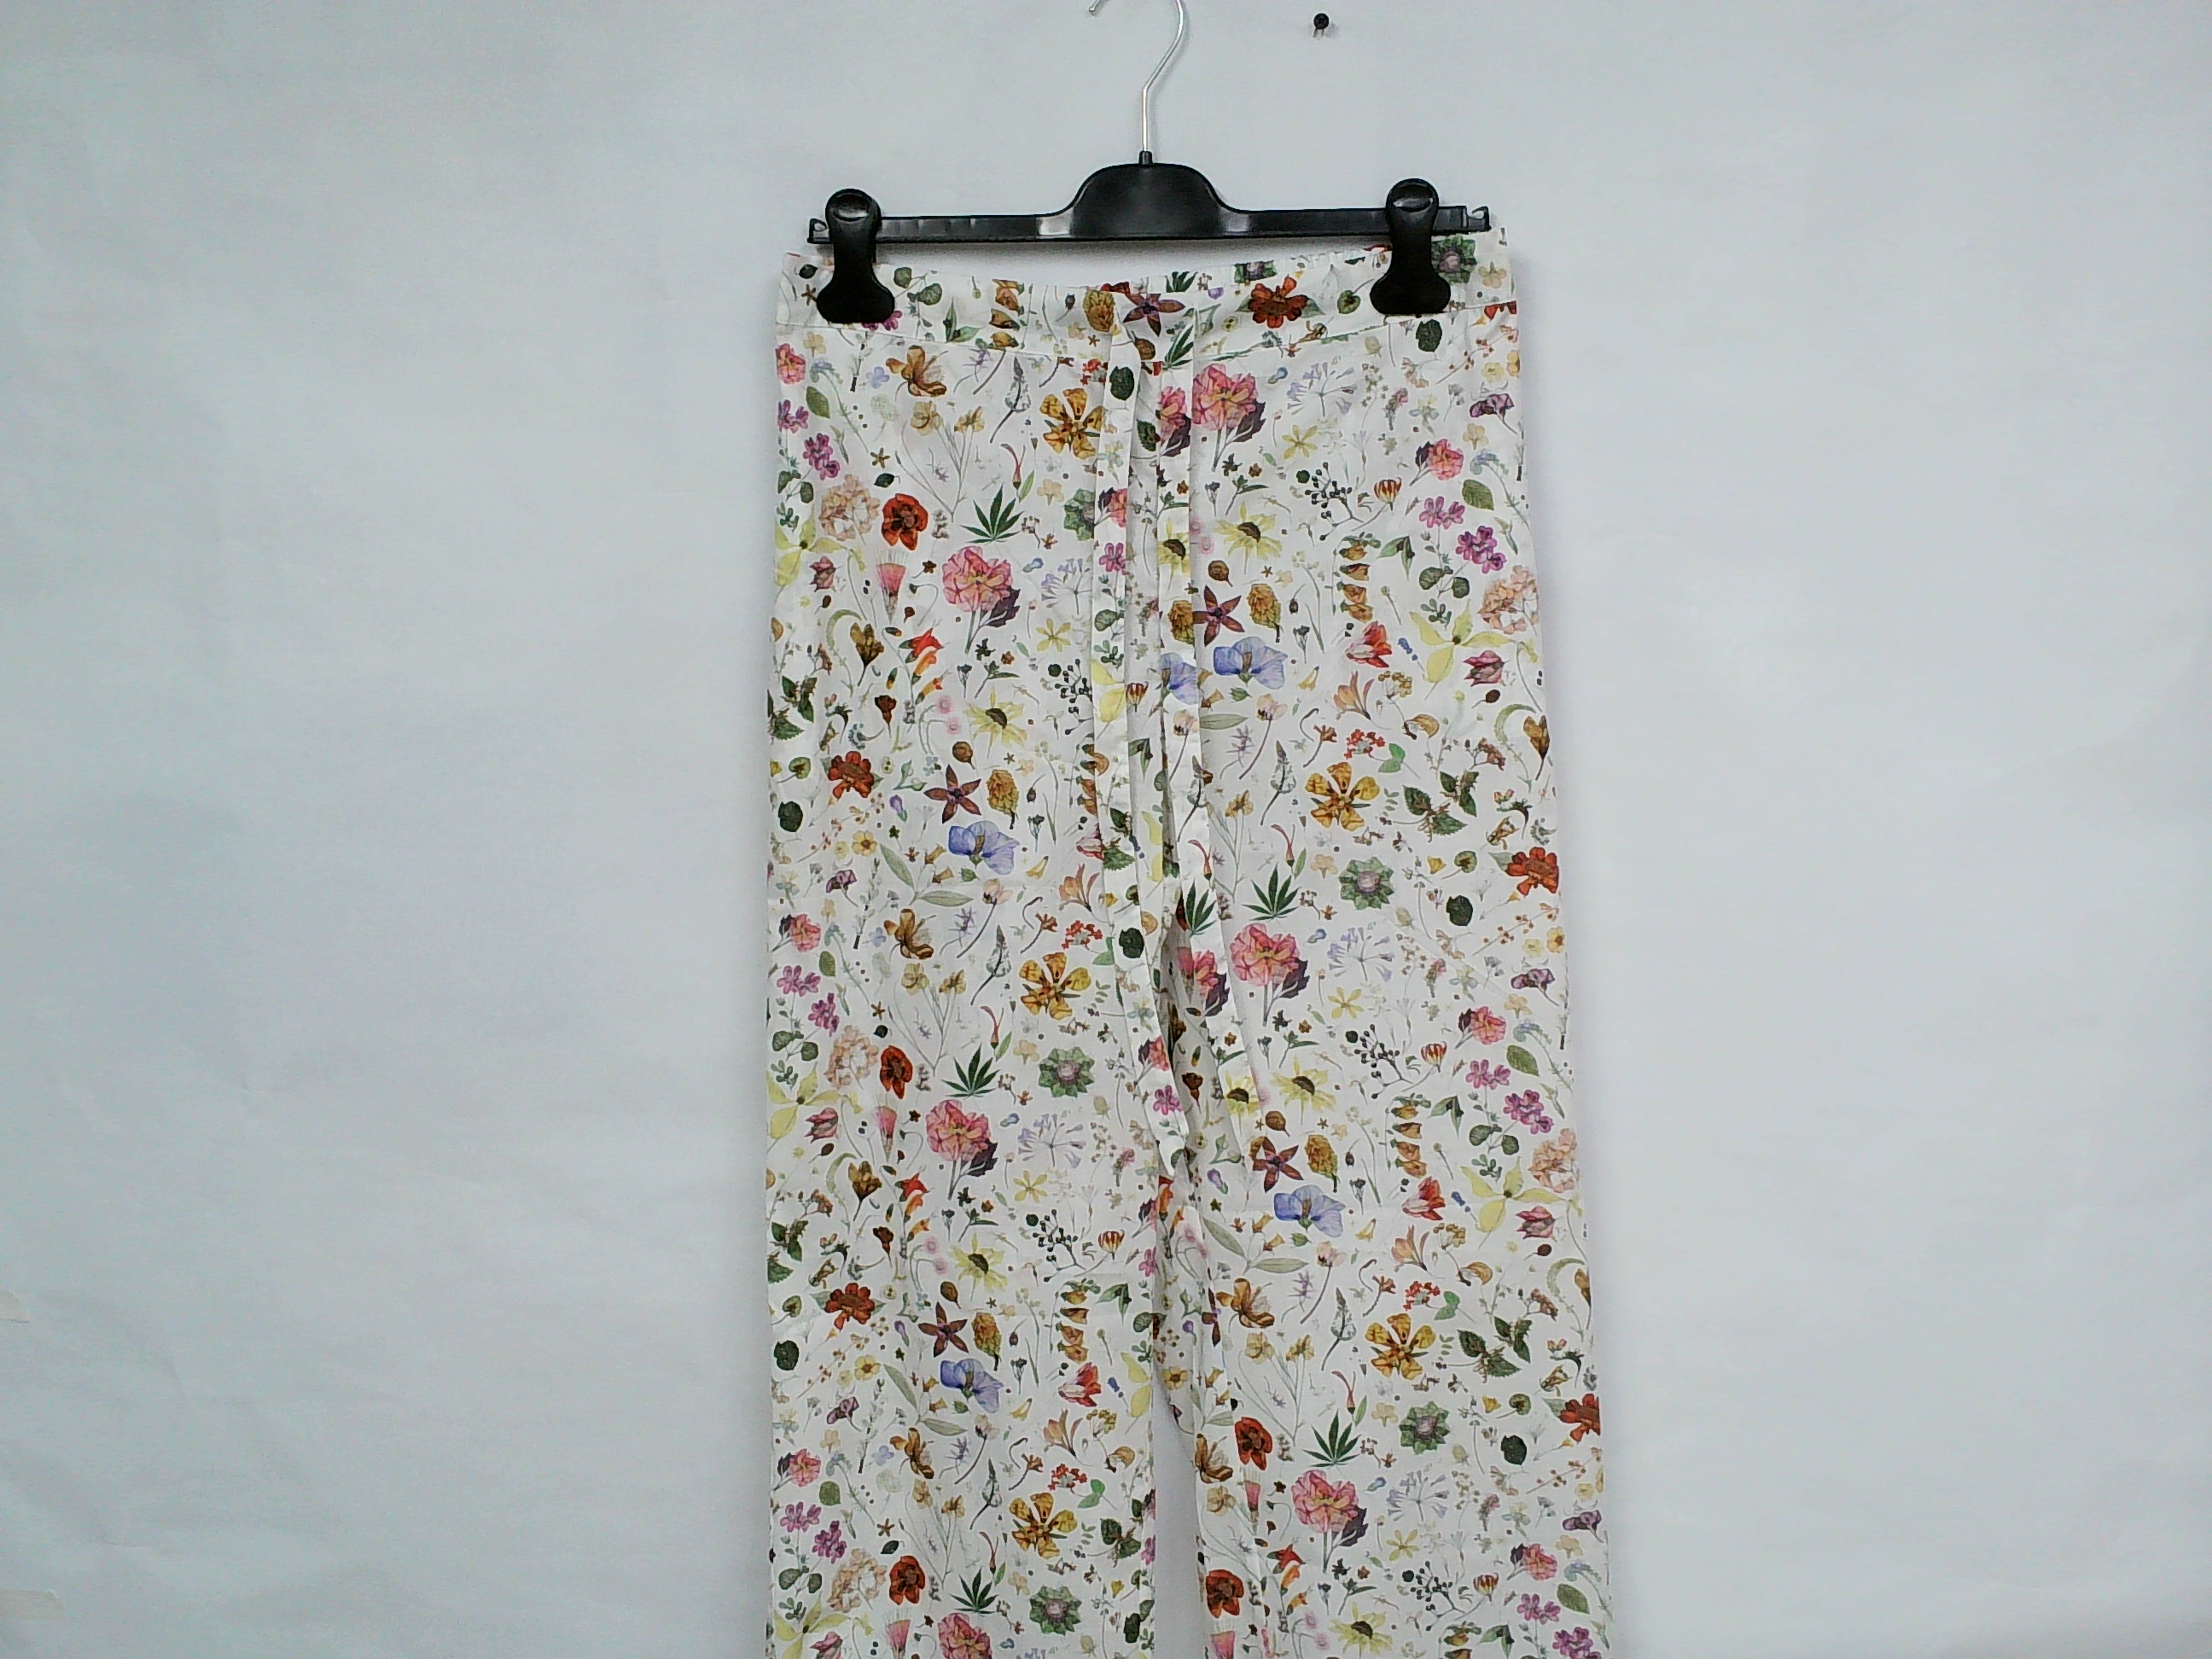wrinkles: (817, 640, 1064, 1218)
